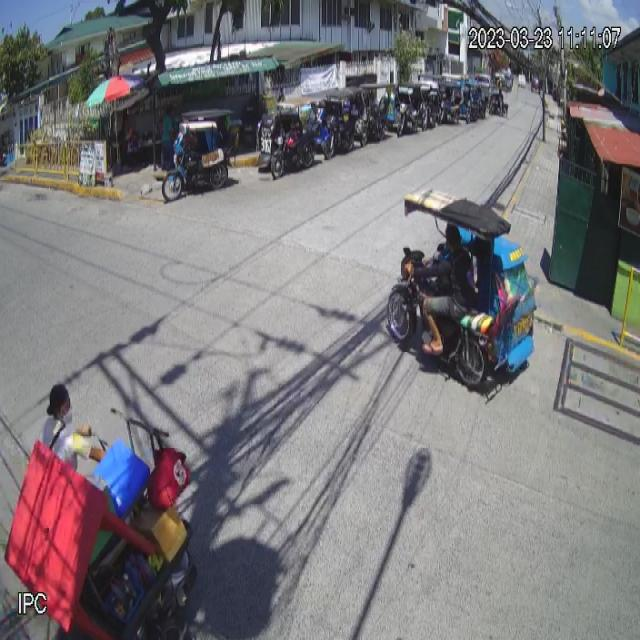Tricycle: (388, 188, 534, 395)
